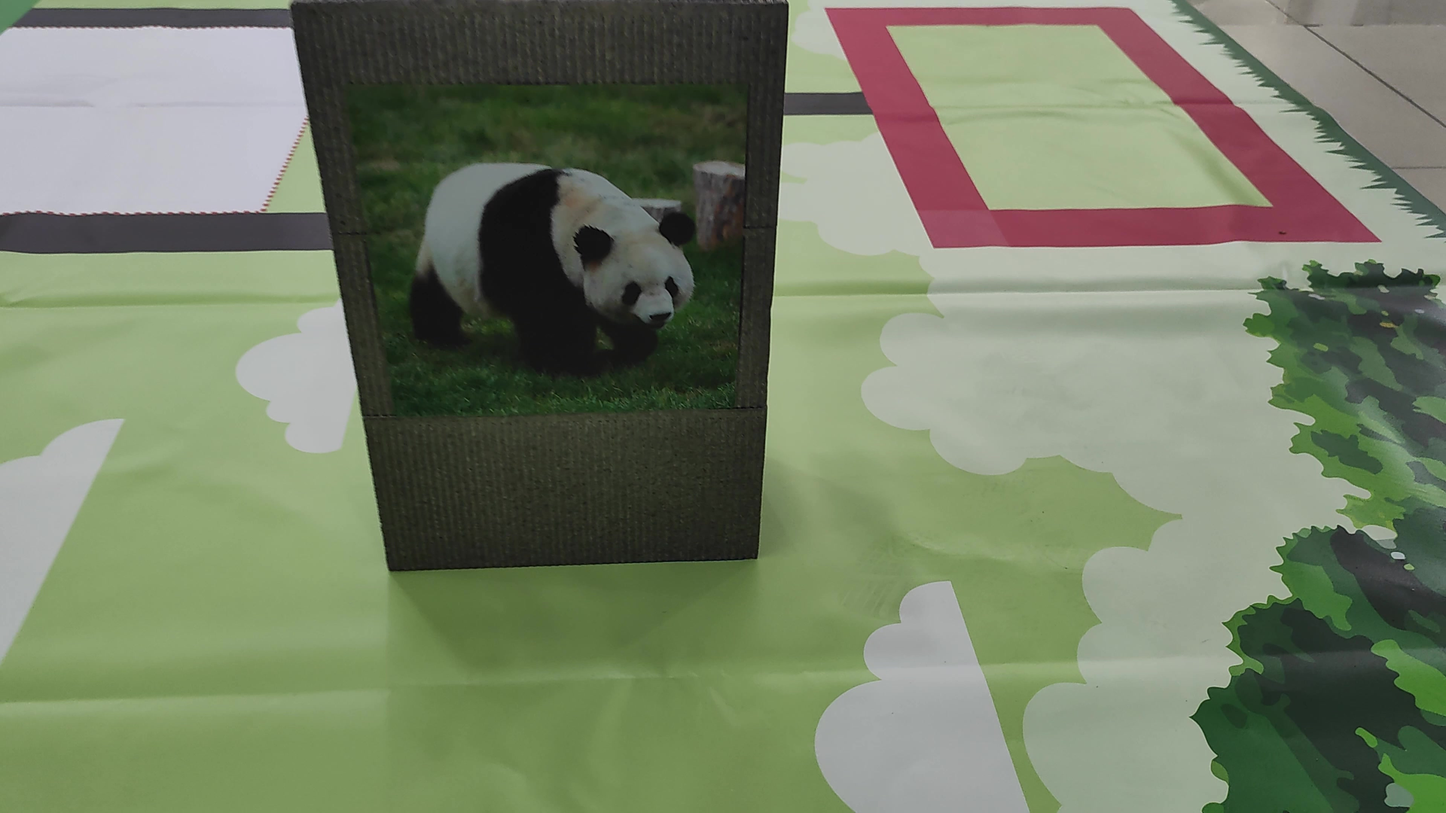panda: (395, 119, 731, 384)
